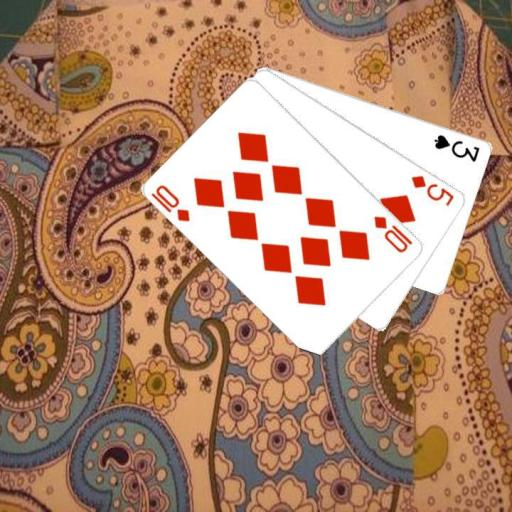10D: (371, 213, 415, 255), (148, 182, 192, 224)
3S: (431, 131, 482, 163)
5D: (408, 172, 456, 208)
